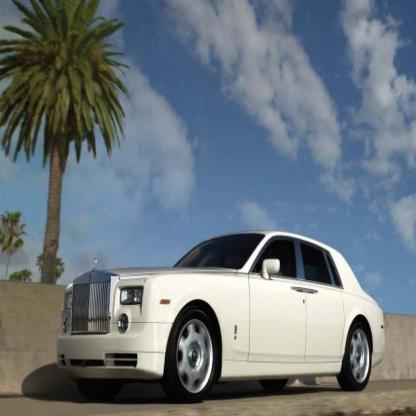car: (57, 233, 390, 408)
